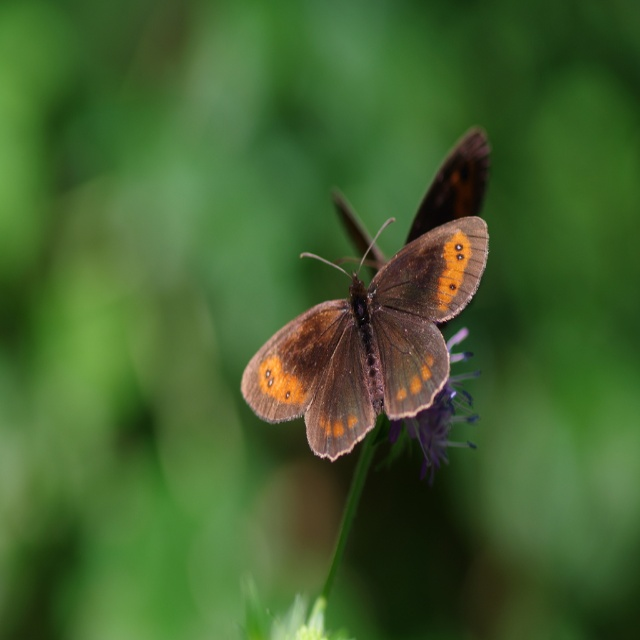Butterfly: (246, 192, 470, 465)
